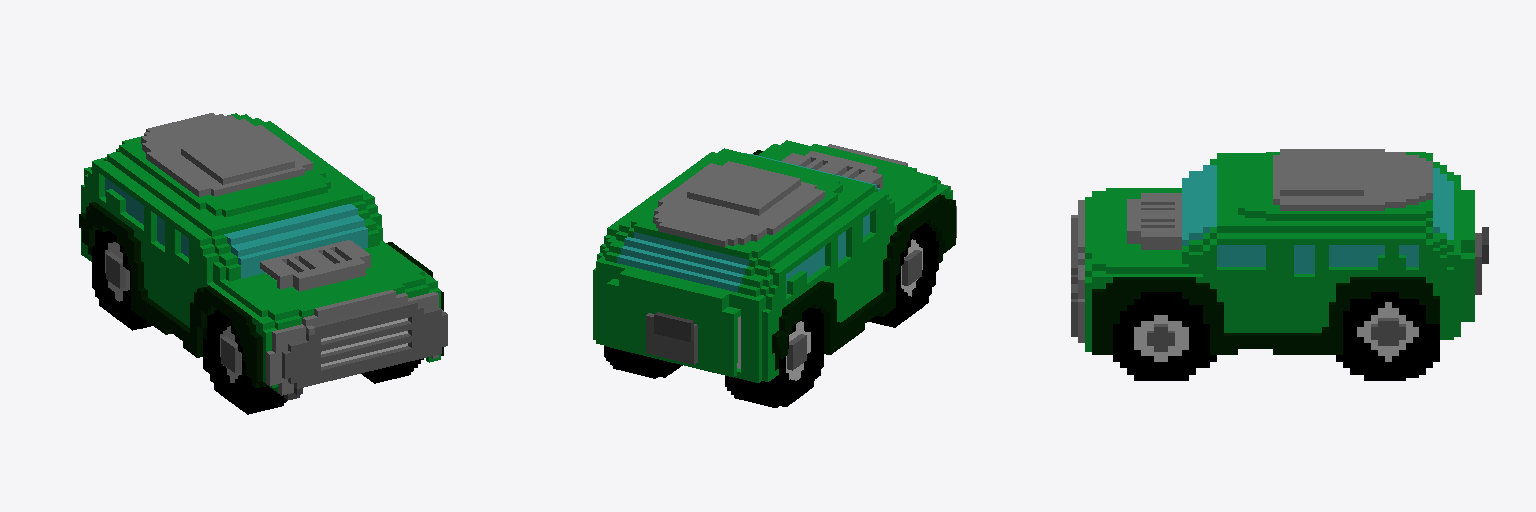
3 views of the same model, side by side, from view 1: azimuth 30°, elevation 25°; view 2: azimuth 150°, elevation 25°; view 3: azimuth 270°, elevation 25° (orthographic).
Visible parts, largest first — view 1: object 1; view 2: object 1; view 3: object 1.
Boxes of the visible parts, x1=… form: object 1: x1=79, y1=113, x2=447, y2=414; object 1: x1=593, y1=140, x2=956, y2=407; object 1: x1=1071, y1=149, x2=1488, y2=380.
Bounding box in the file's own units: 3.1 × 2.7 × 6.
Materials: 1 (1 with a texture image).